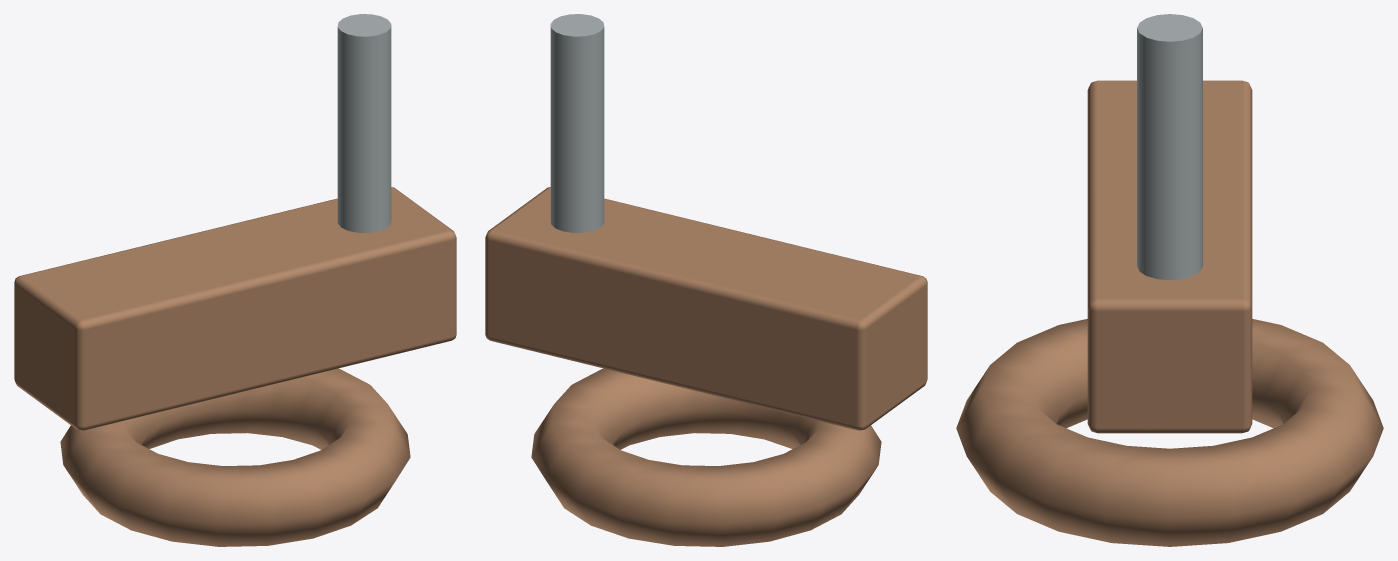
File: off-grid-power-and-controls-earthing-clamp-22c39092__3004.glb
3 views of the same model, side by side, from view 1: azimuth 30°, elevation 25°; view 2: azimuth 150°, elevation 25°; view 3: azimuth 270°, elevation 25° (orthographic). The views are drawn at different scales.
Visible parts, largest first — view 1: earthing-clamp; view 2: earthing-clamp; view 3: earthing-clamp.
Boxes of the visible parts, bbox=[...] form: earthing-clamp: bbox=[14, 14, 456, 546]; earthing-clamp: bbox=[485, 14, 927, 546]; earthing-clamp: bbox=[956, 14, 1383, 546].
Bounding box in the file's own units: 0.065 × 0.0692 × 0.052.
